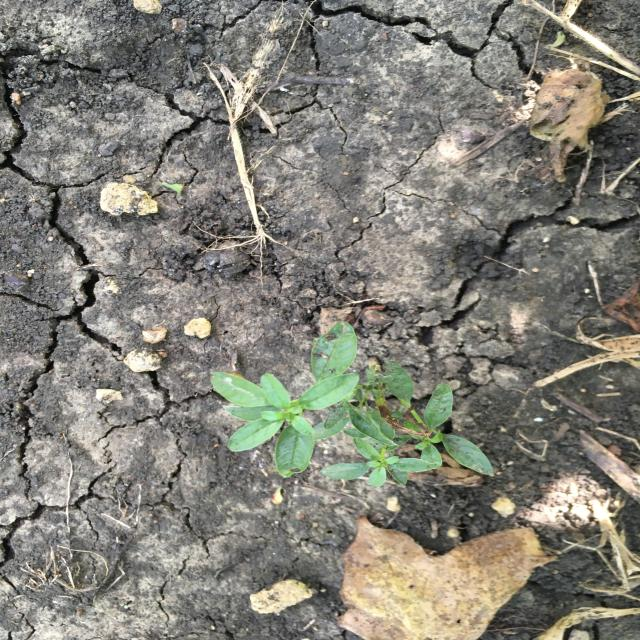Waterhemp: (209, 319, 497, 488)
